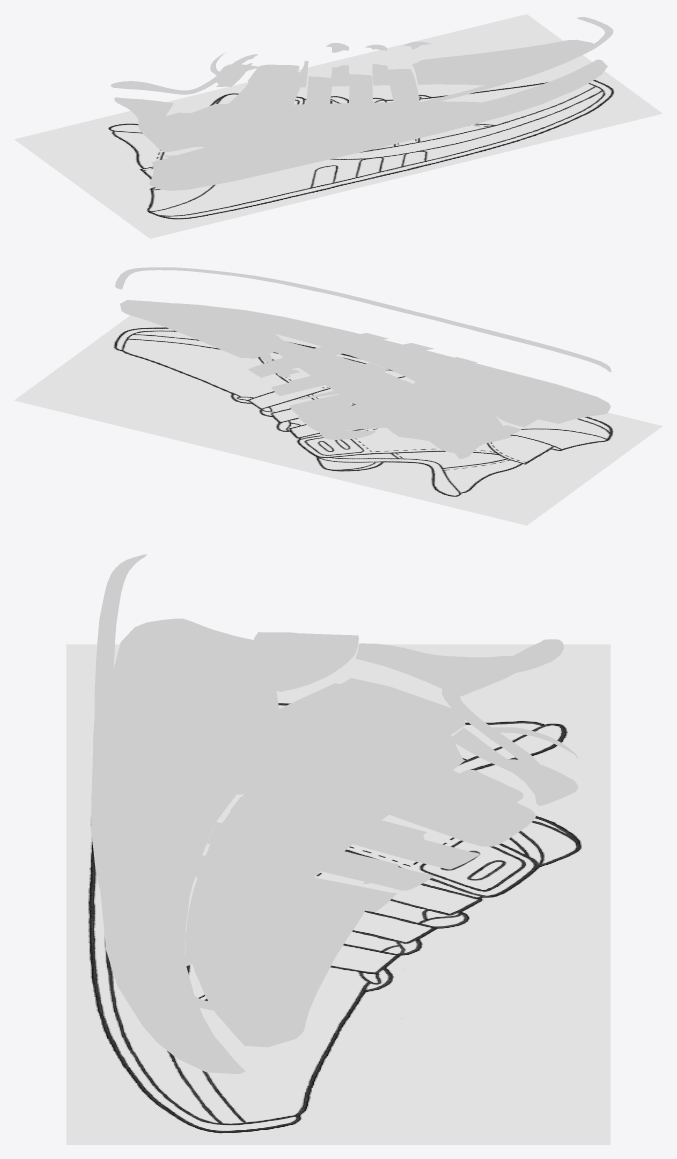
The model's file is adidas eqt.FBX.
The picture shows the model from 3 angles, top to bottom: view 1: azimuth 30°, elevation 25°; view 2: azimuth 150°, elevation 25°; view 3: azimuth 270°, elevation 25°; orthographic projection. The views are drawn at different scales.
Visible parts, largest first — view 1: Plane001, Line023, Line026, Line010, Line004, Line019, Line012, Line001, Line002, Line011, Line003, Line014 (+4 smaller); view 2: Plane001, Line023, Line026, Line010, Line004, Line019, Line012, Line001, Line014, Line011, Line002, Line003 (+4 smaller); view 3: Plane001, Line023, Line026, Line010, Line004, Line019, Line012, Line001, Line014, Line002, Line011, Line003 (+6 smaller).
Part boxes in pixels (x1,y1,x2,y2): Plane001: (14,14,662,238); Line023: (149,59,607,190); Line026: (216,39,592,87); Line010: (196,72,302,145); Line004: (161,101,481,147); Line019: (162,17,613,158); Line012: (142,128,219,152); Line001: (303,76,331,129); Line002: (348,74,372,127); Line011: (114,97,173,132); Line003: (388,69,419,115); Line014: (110,52,257,94); Plane001: (14,301,662,525); Line023: (174,303,610,423); Line026: (120,300,397,419); Line010: (298,382,502,431); Line004: (276,341,511,445); Line019: (115,267,611,372); Line012: (486,398,552,427); Line001: (290,380,413,414); Line014: (319,414,459,452); Line011: (447,425,521,458); Line002: (271,362,388,395); Line003: (248,345,350,377); Plane001: (66,644,610,1144); Line023: (100,618,279,1074); Line026: (185,727,525,1047); Line010: (237,683,535,846); Line004: (185,678,465,966); Line019: (91,554,296,1010); Line012: (250,632,358,691); Line001: (230,794,479,869); Line014: (442,639,577,778); Line002: (207,822,433,890); Line011: (355,643,514,696); Line003: (193,854,396,911).
Size of the model in its own units: 259 by 29.25 by 119.
